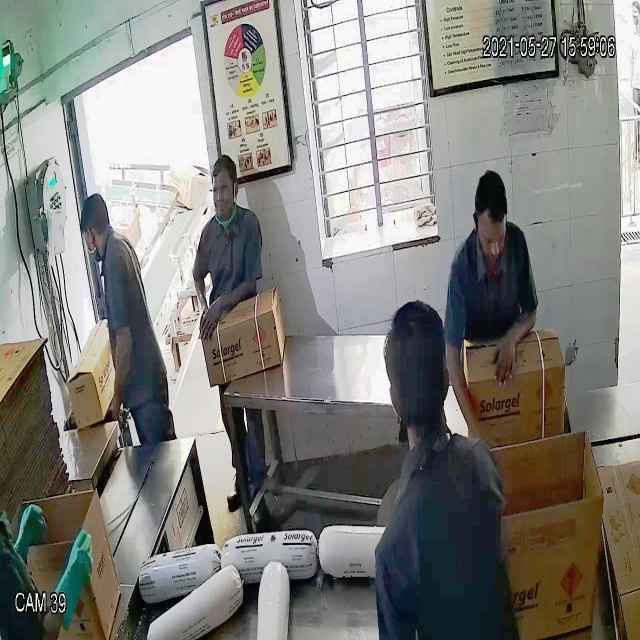Sin_gafas: (208, 176, 238, 201)
